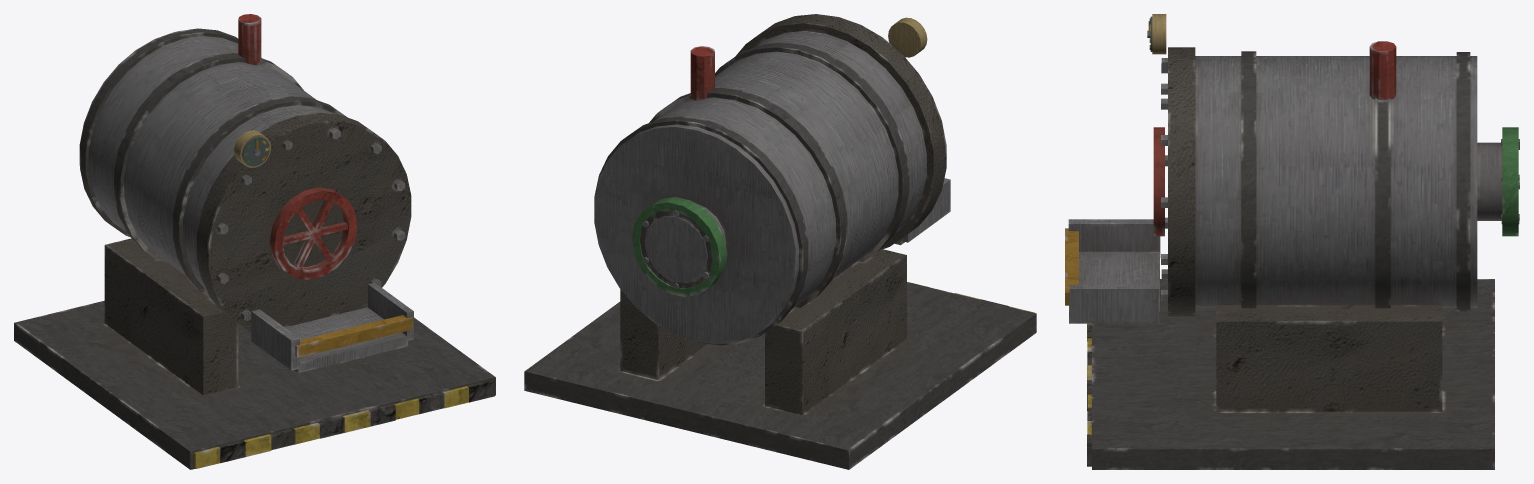
Rendered from feAutoclave_HD.fbx.
3 renders of one model, left to right at view 1: azimuth 30°, elevation 25°; view 2: azimuth 150°, elevation 25°; view 3: azimuth 270°, elevation 25°, orthographic. The views are drawn at different scales.
Visible parts, largest first — view 1: feAutoclave_Base; view 2: feAutoclave_Base; view 3: feAutoclave_Base.
Part boxes in pixels (x1,y1,x2,y2): feAutoclave_Base: (14, 14, 495, 469); feAutoclave_Base: (524, 14, 1036, 469); feAutoclave_Base: (1065, 14, 1519, 469).
Bounding box in the file's own units: 0.9012 × 0.8806 × 1.02.
1 material, 1 textured.
